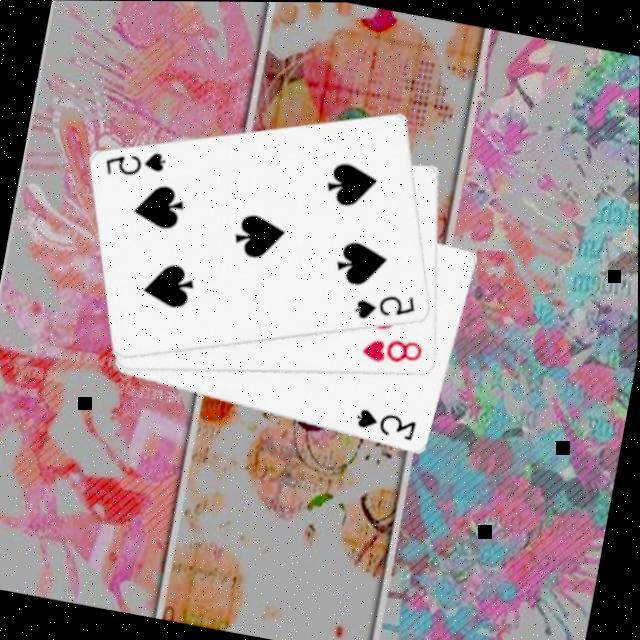3S: (352, 403, 422, 444)
5S: (352, 282, 423, 330), (102, 138, 173, 186)
8H: (359, 328, 430, 372)
